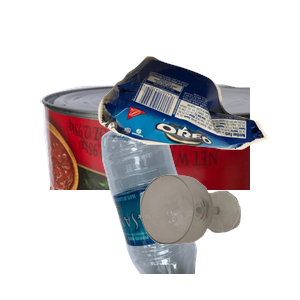glass: (138, 172, 300, 300)
metal: (37, 81, 277, 261)
plastic: (99, 120, 289, 300)
trash: (95, 53, 300, 195)
